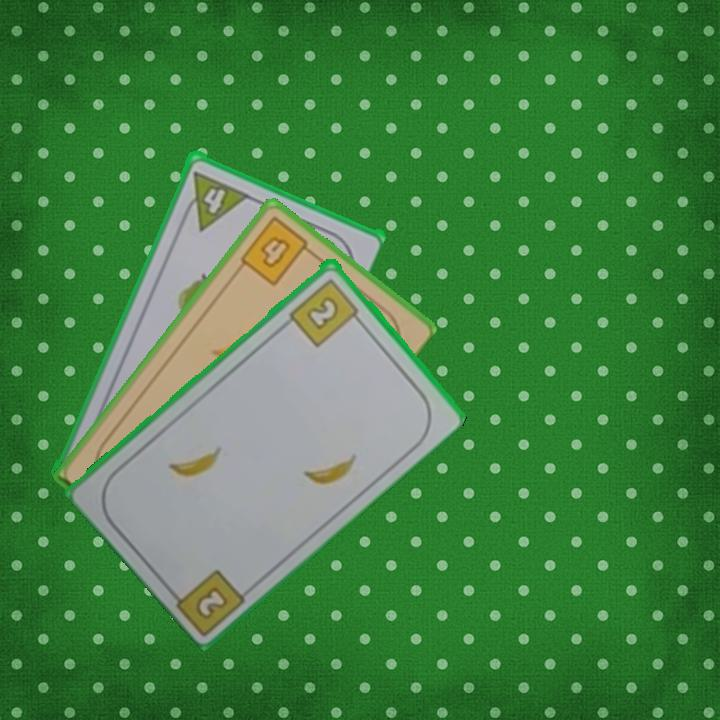2b: (285, 274, 365, 349), (195, 586, 228, 619)
4b: (236, 212, 317, 289)
4p: (199, 180, 249, 232)
